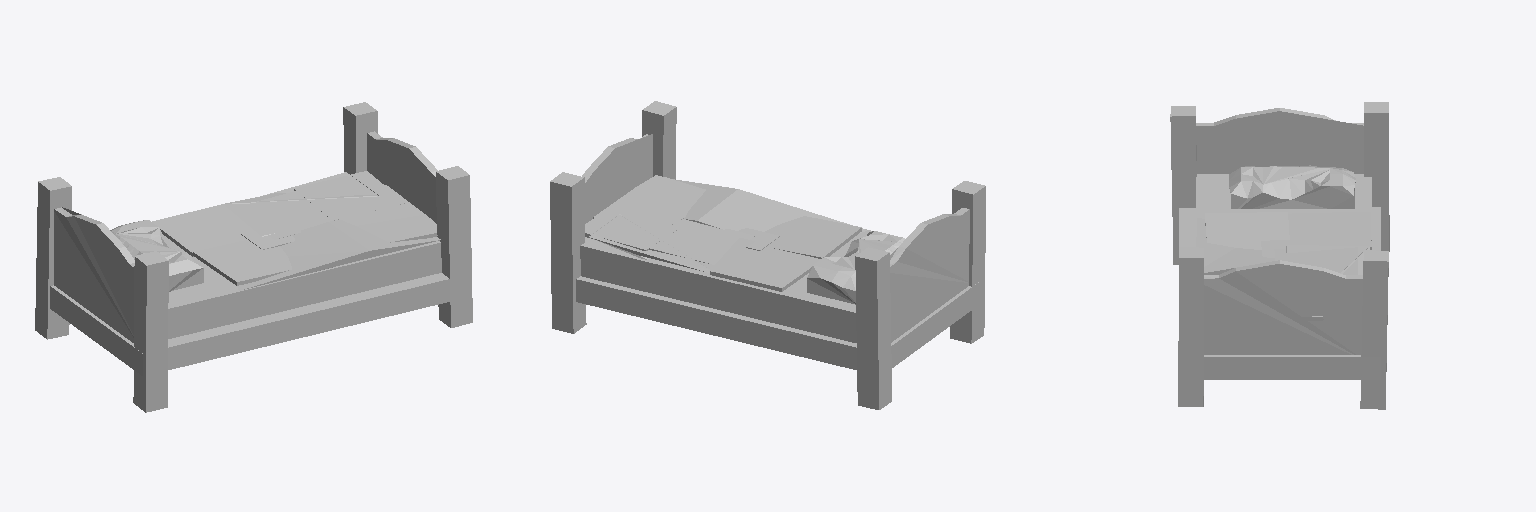
Rendered from mybed.obj.
The picture shows the model from 3 angles: view 1: azimuth 30°, elevation 25°; view 2: azimuth 150°, elevation 25°; view 3: azimuth 270°, elevation 25°; orthographic projection.
Parts seen in each view (by area): view 1: group[number redacted], group[number redacted], group[number redacted], group[number redacted], group[number redacted], group[number redacted], group[number redacted], group[number redacted], group[number redacted], group[number redacted], group[number redacted], group[number redacted] (+5 smaller); view 2: group[number redacted], group[number redacted], group[number redacted], group[number redacted], group[number redacted], group[number redacted], group[number redacted], group[number redacted], group[number redacted], group[number redacted], group[number redacted], group[number redacted] (+5 smaller); view 3: group[number redacted], group[number redacted], group[number redacted], group[number redacted], group[number redacted], group[number redacted], group[number redacted], group[number redacted], group[number redacted], group[number redacted], group[number redacted], group[number redacted] (+2 smaller).
Boxes of the visible parts, box(x1,y1,x2,y2) form: group[number redacted]: box(50, 273, 449, 375); group[number redacted]: box(163, 235, 441, 338); group[number redacted]: box(54, 207, 134, 342); group[number redacted]: box(133, 251, 168, 412); group[number redacted]: box(436, 166, 472, 327); group[number redacted]: box(237, 220, 440, 290); group[number redacted]: box(367, 131, 437, 223); group[number redacted]: box(35, 177, 71, 339); group[number redacted]: box(152, 204, 253, 256); group[number redacted]: box(193, 240, 291, 285); group[number redacted]: box(294, 171, 405, 220); group[number redacted]: box(110, 220, 203, 291); group[number redacted]: box(580, 228, 871, 342); group[number redacted]: box(576, 276, 981, 369); group[number redacted]: box(890, 208, 969, 342); group[number redacted]: box(855, 247, 891, 409); group[number redacted]: box(550, 172, 586, 333); group[number redacted]: box(673, 179, 866, 232); group[number redacted]: box(582, 134, 652, 223); group[number redacted]: box(950, 181, 985, 343); group[number redacted]: box(710, 246, 820, 291); group[number redacted]: box(807, 231, 904, 304); group[number redacted]: box(765, 216, 861, 258); group[number redacted]: box(585, 202, 688, 250); group[number redacted]: box(1204, 260, 1362, 354); group[number redacted]: box(1196, 108, 1363, 173); group[number redacted]: box(1179, 207, 1380, 379); group[number redacted]: box(1229, 165, 1355, 208); group[number redacted]: box(1178, 247, 1203, 406); group[number redacted]: box(1360, 250, 1388, 409); group[number redacted]: box(1170, 106, 1196, 264); group[number redacted]: box(1364, 102, 1389, 251); group[number redacted]: box(1205, 212, 1289, 249); group[number redacted]: box(1288, 212, 1371, 249); group[number redacted]: box(1196, 174, 1371, 239); group[number redacted]: box(1196, 218, 1274, 272).
Size of the model in its own units: 0.4579 by 0.2056 by 0.2611.